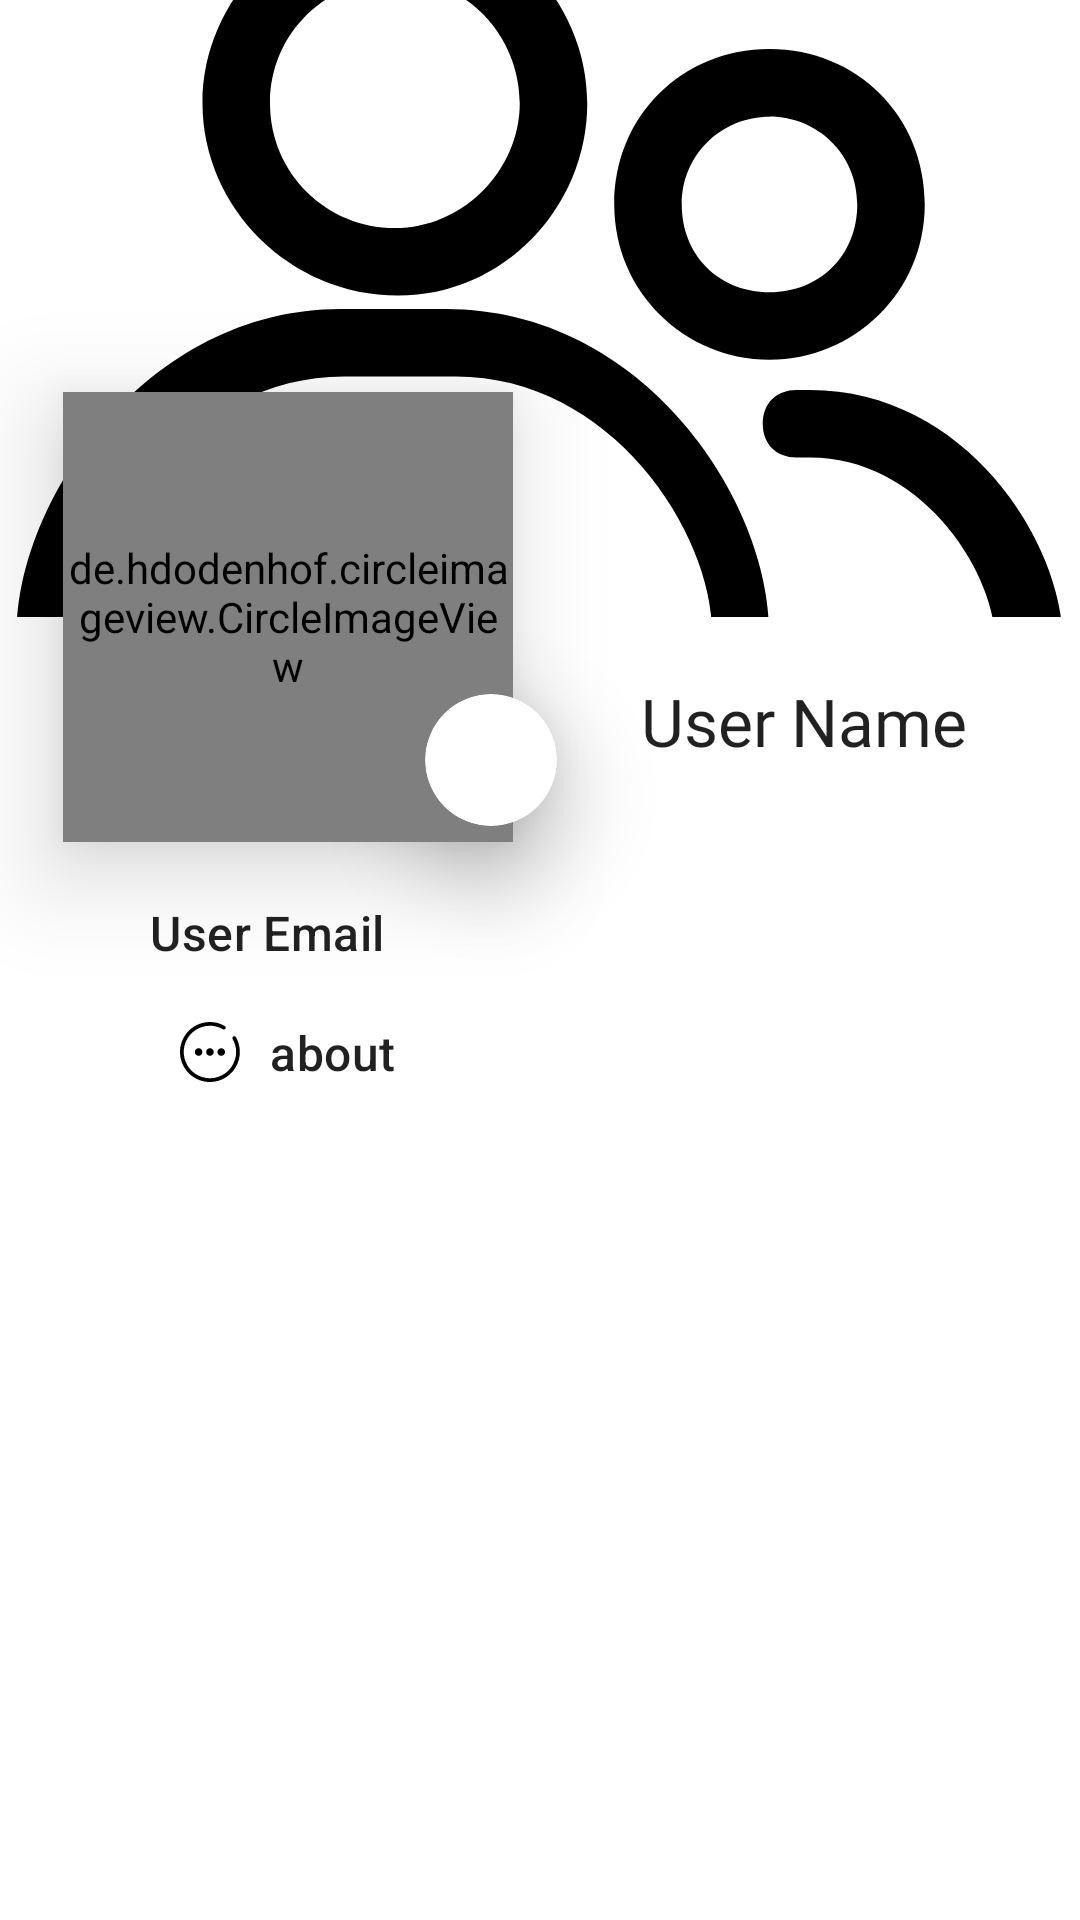

Named icons in this screenshot (1080px x 1920px) and their centers, point (x, y):
horizontaloption: point (210, 1052)
